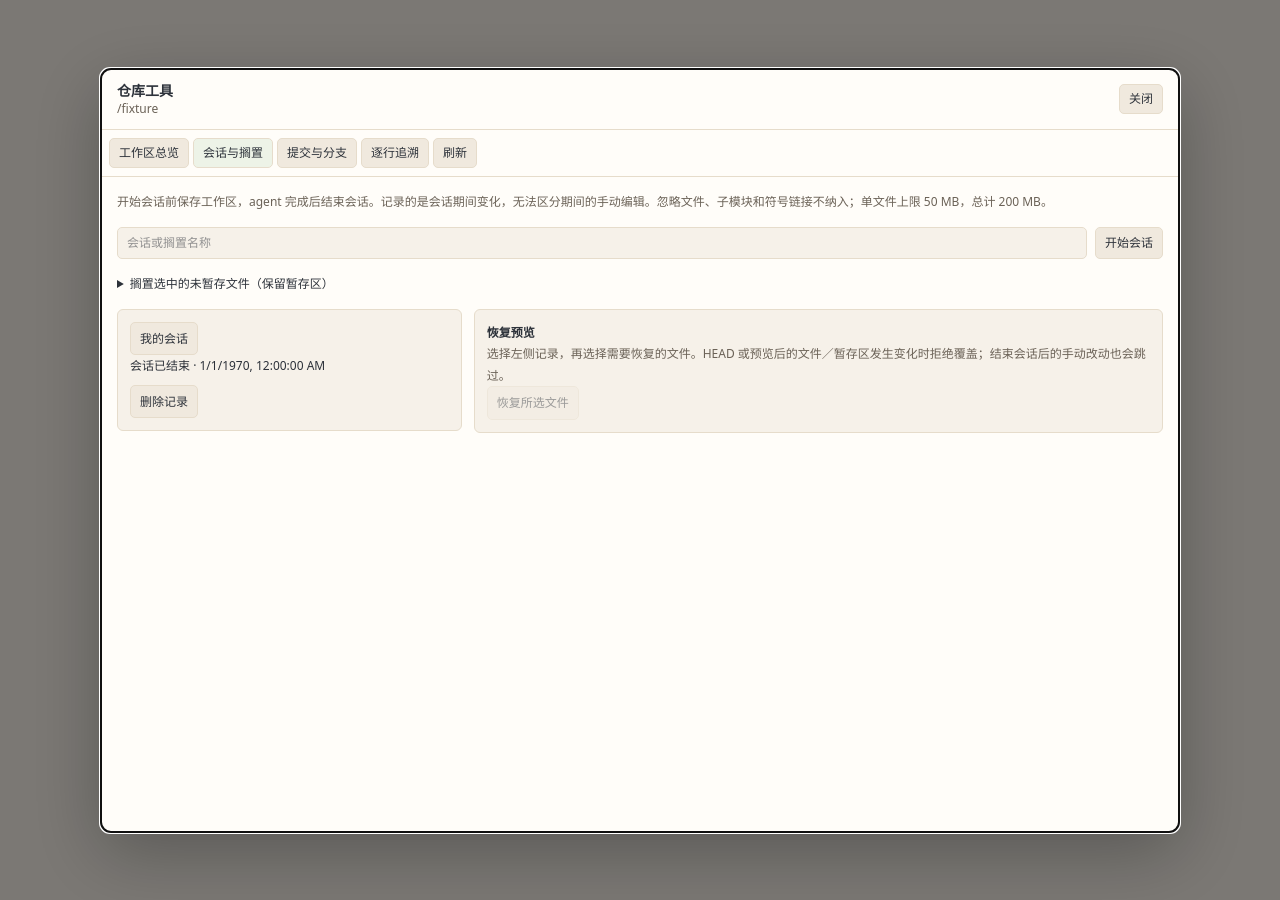
Test: workspace workflows › disables restoring files changed after the session
Click the button "我的会话" at (164, 338), box [130,322,198,355]
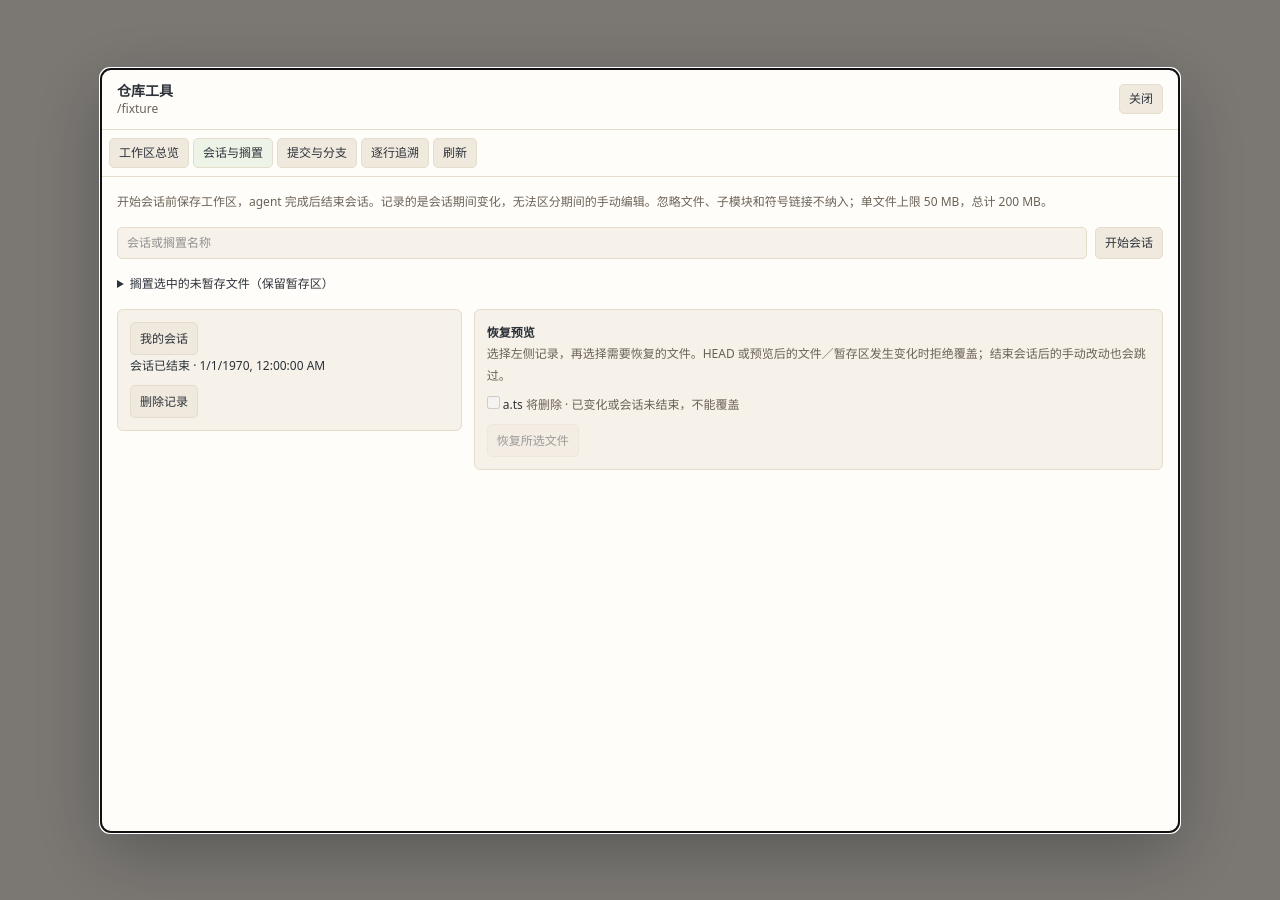
Expected: the button "恢复所选文件" is disabled, [487,424,579,458]
Expected: the checkbox labelled "a.ts 将删除 · 已变化或会话未结束，不能覆盖" is disabled, [487,396,500,409]
